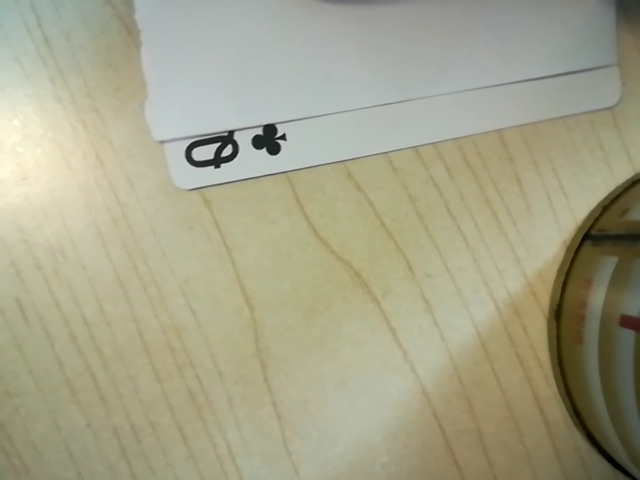mh q: (174, 119, 293, 182)
